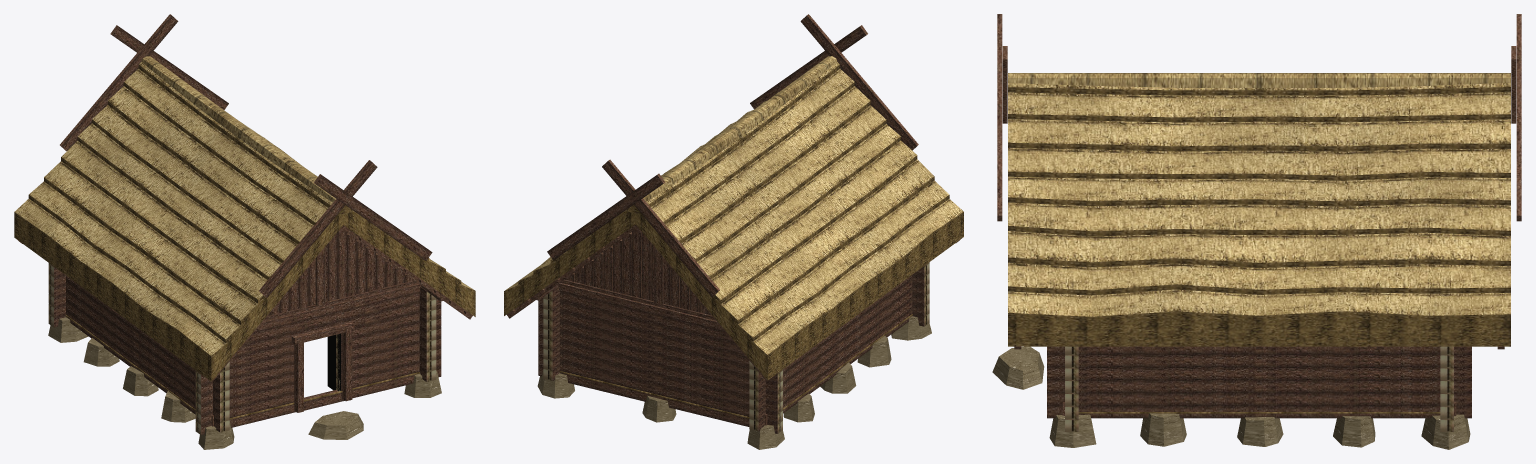
The model's file is srub-construction.glb.
3 views of the same model, side by side, from view 1: azimuth 30°, elevation 25°; view 2: azimuth 150°, elevation 25°; view 3: azimuth 270°, elevation 25° (orthographic). The views are drawn at different scales.
Parts seen in each view (by area): view 1: srub-thatch-1, srub-ridge, srub-thatch-3, srub-thatch-4, srub-thatch-7, srub-thatch-2, srub-thatch-6, srub-boards, srub-thatch-8, srub-thatch-5, srub-stones, srub-logs-1 (+13 smaller); view 2: srub-thatch-1, srub-ridge, srub-thatch-3, srub-thatch-4, srub-thatch-7, srub-thatch-2, srub-thatch-6, srub-boards, srub-thatch-8, srub-thatch-5, srub-stones, srub-logs-3 (+12 smaller); view 3: srub-thatch-1, srub-thatch-3, srub-thatch-4, srub-thatch-7, srub-thatch-6, srub-thatch-2, srub-thatch-8, srub-thatch-5, srub-ridge, srub-stones, srub-logs-2, srub-logs-3 (+6 smaller).
Part boxes in pixels (<box>): srub-thatch-1: <box>14,195,475,381</box>; srub-ridge: <box>60,14,432,297</box>; srub-thatch-3: <box>44,128,445,345</box>; srub-thatch-4: <box>61,129,428,325</box>; srub-thatch-7: <box>108,82,381,270</box>; srub-thatch-2: <box>29,139,461,364</box>; srub-thatch-6: <box>92,101,397,289</box>; srub-boards: <box>254,231,421,331</box>; srub-thatch-8: <box>124,65,366,251</box>; srub-thatch-5: <box>78,119,412,306</box>; srub-stones: <box>48,317,441,449</box>; srub-logs-1: <box>48,310,441,435</box>; srub-thatch-1: <box>504,145,963,380</box>; srub-ridge: <box>547,14,918,296</box>; srub-thatch-3: <box>533,122,934,344</box>; srub-thatch-4: <box>550,110,916,324</box>; srub-thatch-7: <box>597,82,870,269</box>; srub-thatch-2: <box>518,135,949,362</box>; srub-thatch-6: <box>581,92,886,288</box>; srub-boards: <box>558,231,724,330</box>; srub-thatch-8: <box>613,65,854,250</box>; srub-thatch-5: <box>567,101,900,305</box>; srub-stones: <box>537,316,931,449</box>; srub-logs-3: <box>538,289,929,413</box>; srub-thatch-1: <box>1008,284,1510,346</box>; srub-thatch-3: <box>1008,225,1510,262</box>; srub-thatch-4: <box>1008,197,1510,231</box>; srub-thatch-7: <box>1008,114,1510,146</box>; srub-thatch-6: <box>1008,142,1510,175</box>; srub-thatch-2: <box>1008,257,1510,290</box>; srub-thatch-8: <box>1008,87,1510,117</box>; srub-thatch-5: <box>1008,171,1510,201</box>; srub-ridge: <box>997,14,1521,221</box>; srub-stones: <box>992,346,1470,449</box>; srub-logs-2: <box>1047,392,1471,419</box>; srub-logs-3: <box>1047,380,1471,406</box>.
Bounding box in the file's own units: 5.51 × 5.4 × 7.47.
1 material, 1 textured.
